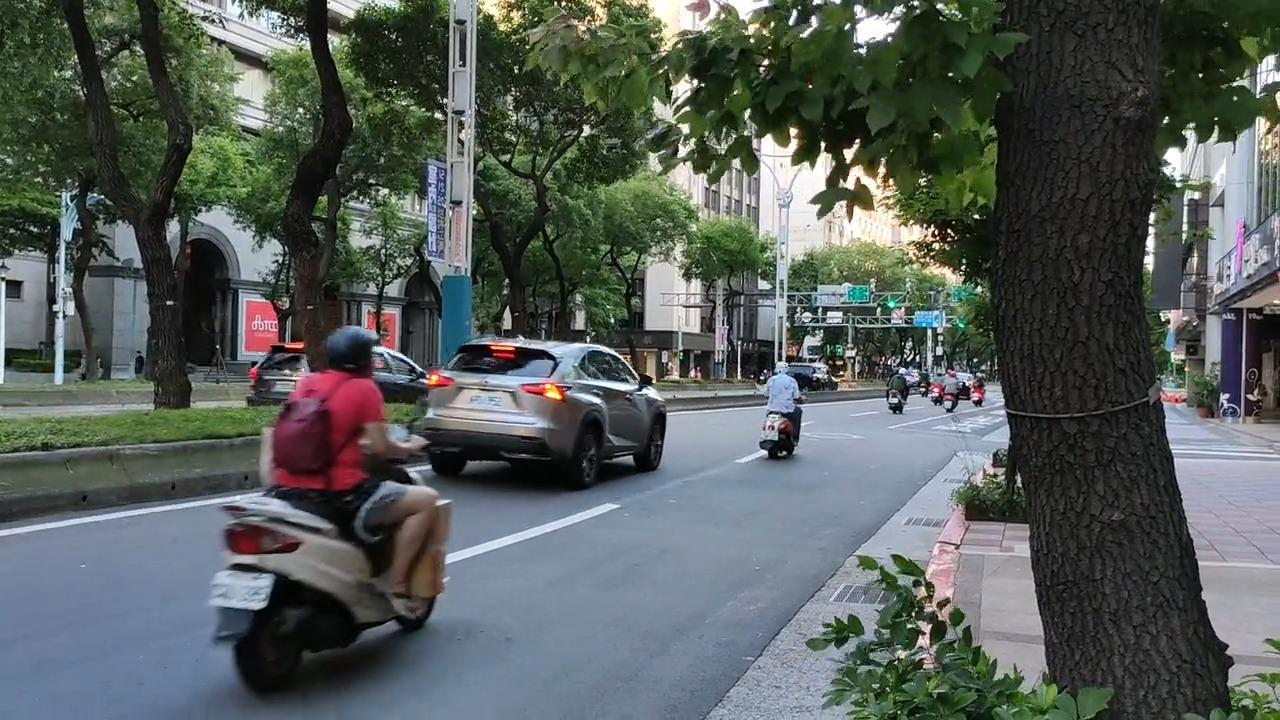driver: (207, 324, 450, 695), (759, 361, 807, 459)
helmet: (323, 325, 380, 380), (775, 361, 789, 375)
